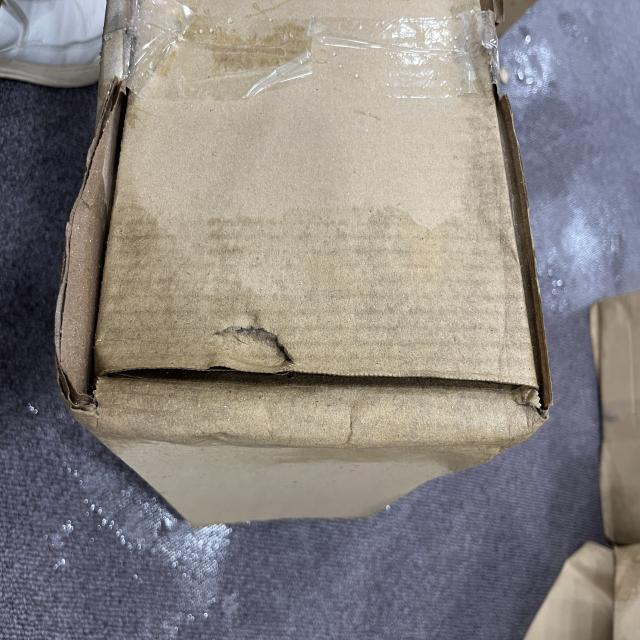wet: (84, 218, 534, 455)
